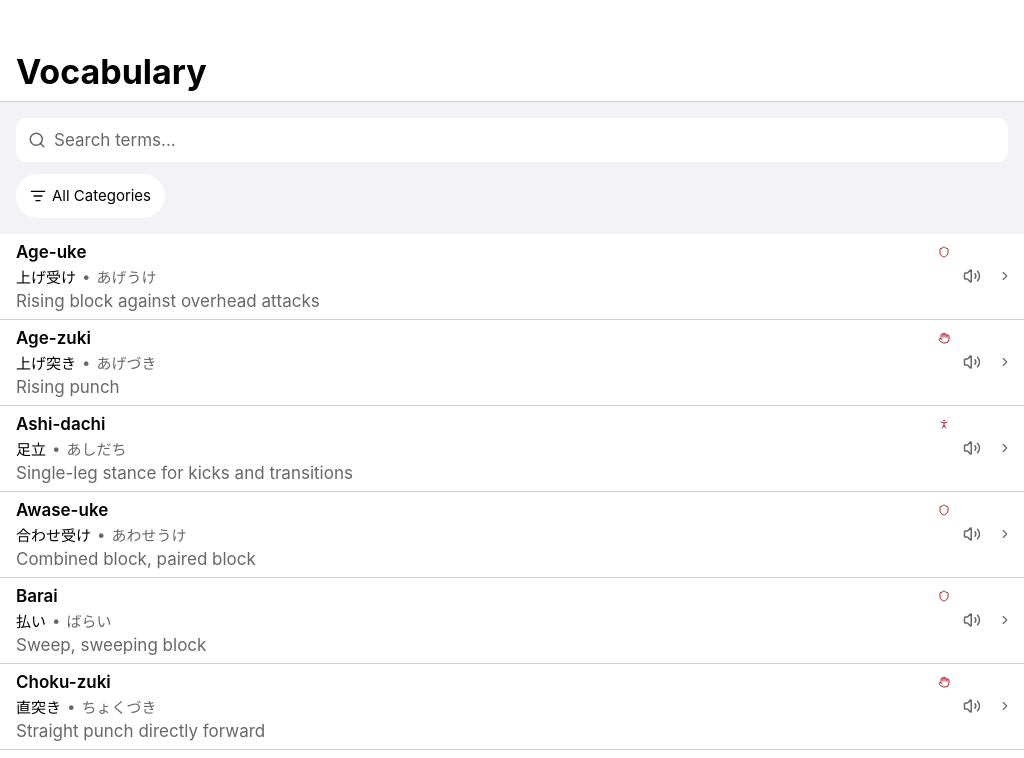
Test: VocabularyListScreen › shows the empty state
Type "zzzz" into the search field at coordinates (529, 140), box 54,122 -> 1004,158
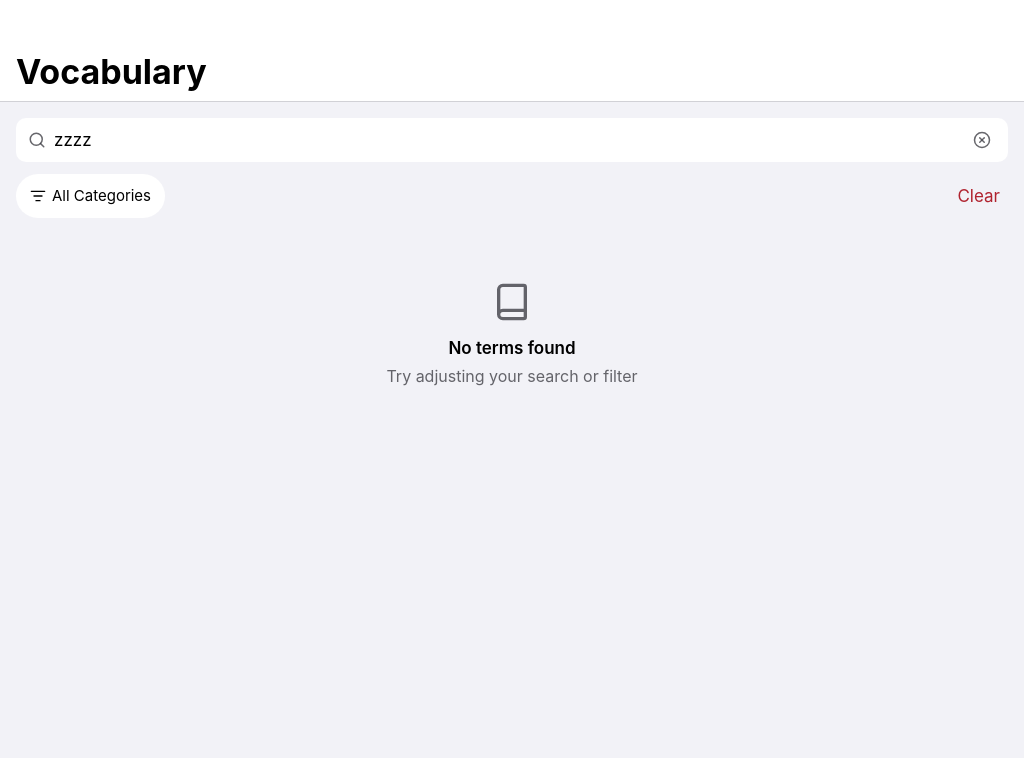
Result: the heading "No terms found" is shown at 448,338 -> 576,358
